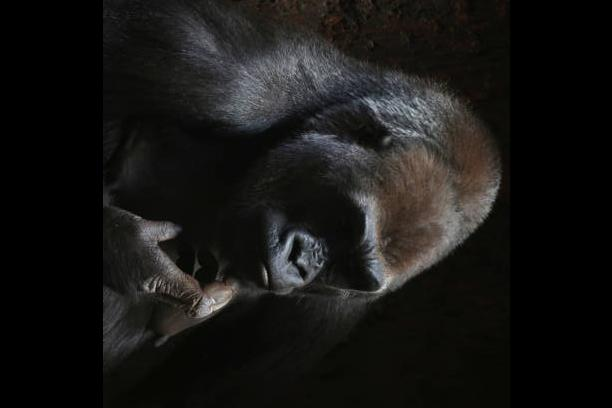gorille_Autres: (110, 0, 508, 408)
